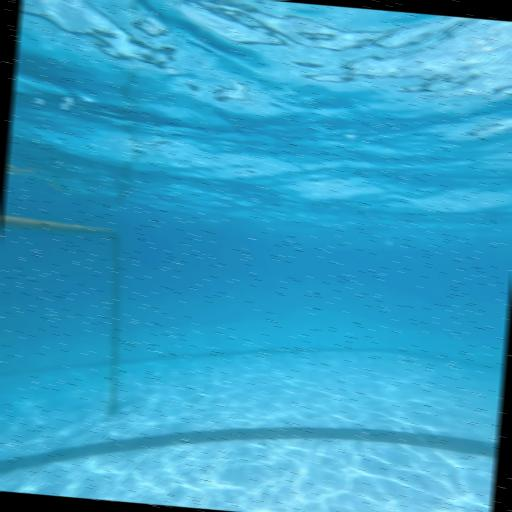gate: (0, 215, 146, 457)
